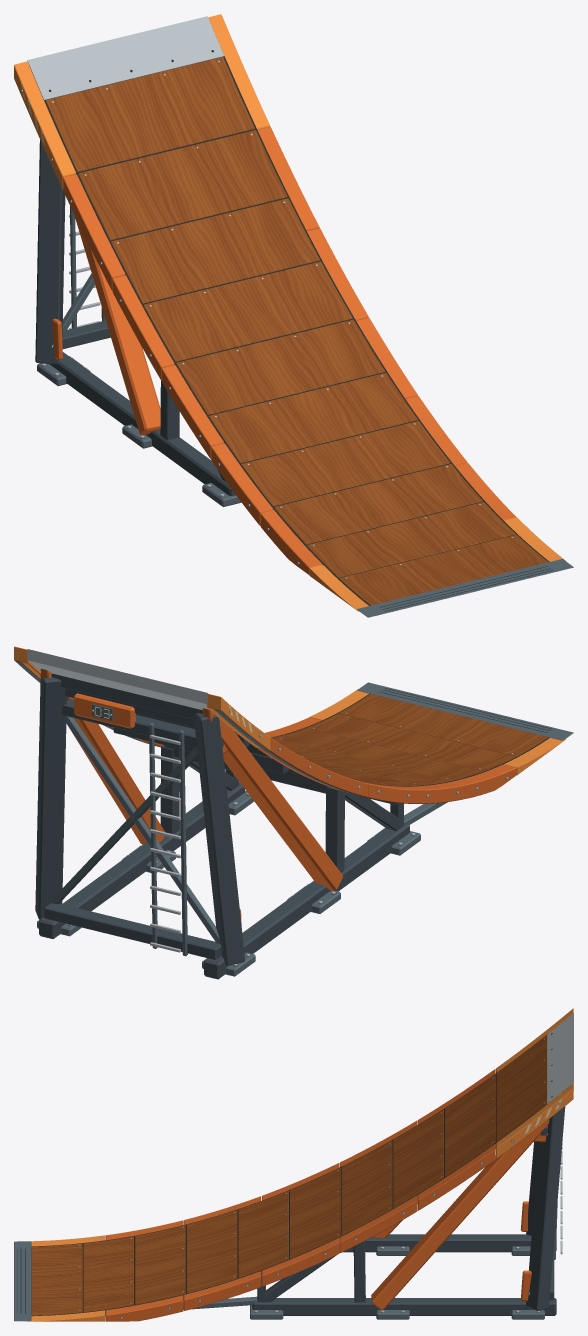
The model's file is wsc-module-007-hover-kicker-48.glb.
The picture shows the model from 3 angles, top to bottom: view 1: azimuth 30°, elevation 25°; view 2: azimuth 150°, elevation 25°; view 3: azimuth 270°, elevation 25°; orthographic projection. The views are drawn at different scales.
Visible parts, largest first — view 1: 06 | Laminated birch riding panels, 03 | Fired orange enamel, 01 | Powder-coated iron, 05 | Brushed zinc hardware, 04 | Worn enamel end fittings, 07 | Rubber seam and inset, 02 | Graphite end caps; view 2: 01 | Powder-coated iron, 06 | Laminated birch riding panels, 03 | Fired orange enamel, 02 | Graphite end caps, 05 | Brushed zinc hardware, 04 | Worn enamel end fittings, 07 | Rubber seam and inset; view 3: 06 | Laminated birch riding panels, 03 | Fired orange enamel, 01 | Powder-coated iron, 02 | Graphite end caps, 04 | Worn enamel end fittings, 05 | Brushed zinc hardware, 07 | Rubber seam and inset.
Boxes of the visible parts, box(x1,y1,x2,y2) form: 06 | Laminated birch riding panels: box(45, 57, 548, 605); 03 | Fired orange enamel: box(52, 127, 516, 575); 01 | Powder-coated iron: box(35, 140, 235, 495); 05 | Brushed zinc hardware: box(21, 16, 513, 578); 04 | Worn enamel end fittings: box(14, 14, 565, 611); 07 | Rubber seam and inset: box(29, 49, 553, 611); 02 | Graphite end caps: box(21, 89, 573, 617); 01 | Powder-coated iron: box(35, 673, 409, 979); 06 | Laminated birch riding panels: box(272, 693, 548, 786); 03 | Fired orange enamel: box(40, 668, 516, 924); 02 | Graphite end caps: box(15, 660, 573, 976); 05 | Brushed zinc hardware: box(27, 649, 513, 965); 04 | Worn enamel end fittings: box(14, 646, 565, 775); 07 | Rubber seam and inset: box(234, 688, 552, 786); 06 | Laminated birch riding panels: box(31, 1035, 547, 1315); 03 | Fired orange enamel: box(105, 1069, 549, 1321); 01 | Powder-coated iron: box(252, 1106, 565, 1315); 02 | Graphite end caps: box(14, 1102, 561, 1321); 04 | Worn enamel end fittings: box(28, 1008, 573, 1321); 05 | Brushed zinc hardware: box(79, 1013, 573, 1318); 07 | Rubber seam and inset: box(17, 1033, 570, 1316).
Bounding box in the file's own units: 3.56 × 4.8 × 10.4.
Materials: 8 (1 with a texture image).
